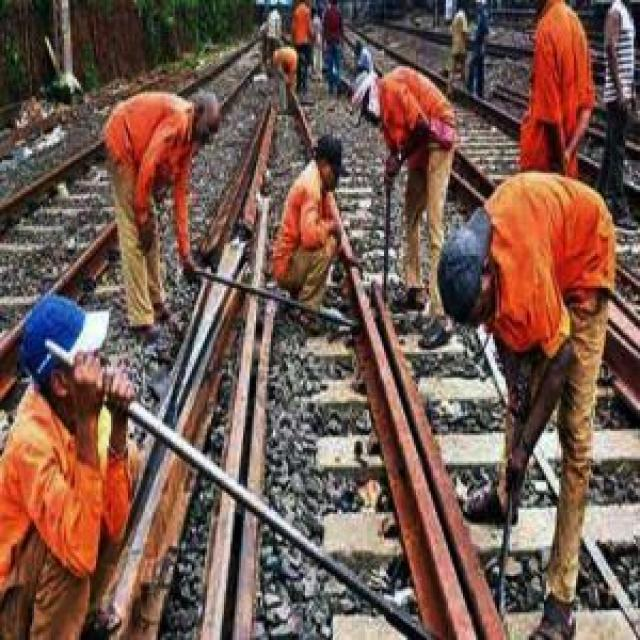danger: (442, 173, 618, 638), (0, 294, 132, 637), (99, 91, 221, 342), (353, 67, 460, 353), (273, 140, 358, 317), (521, 0, 593, 190), (603, 2, 639, 233), (467, 0, 493, 109), (292, 0, 317, 100), (323, 0, 347, 90), (451, 6, 468, 100), (270, 47, 300, 96), (266, 1, 280, 80), (313, 8, 323, 86)
rail: (59, 98, 524, 640)
